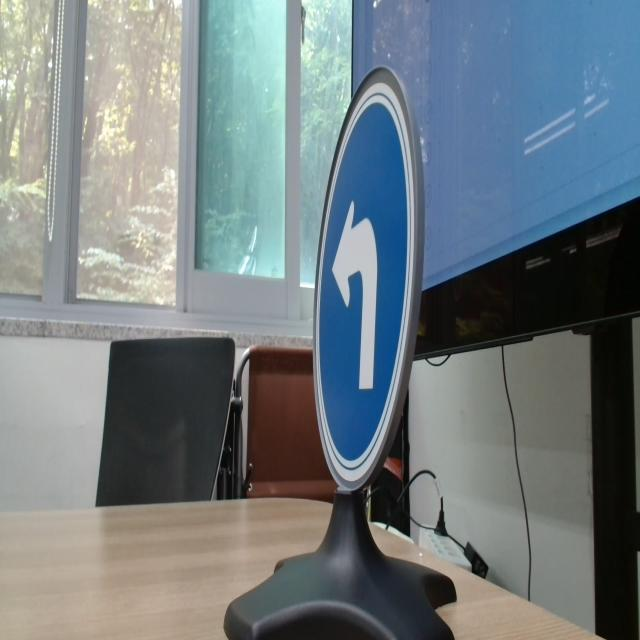left_direction: (304, 54, 426, 498)
